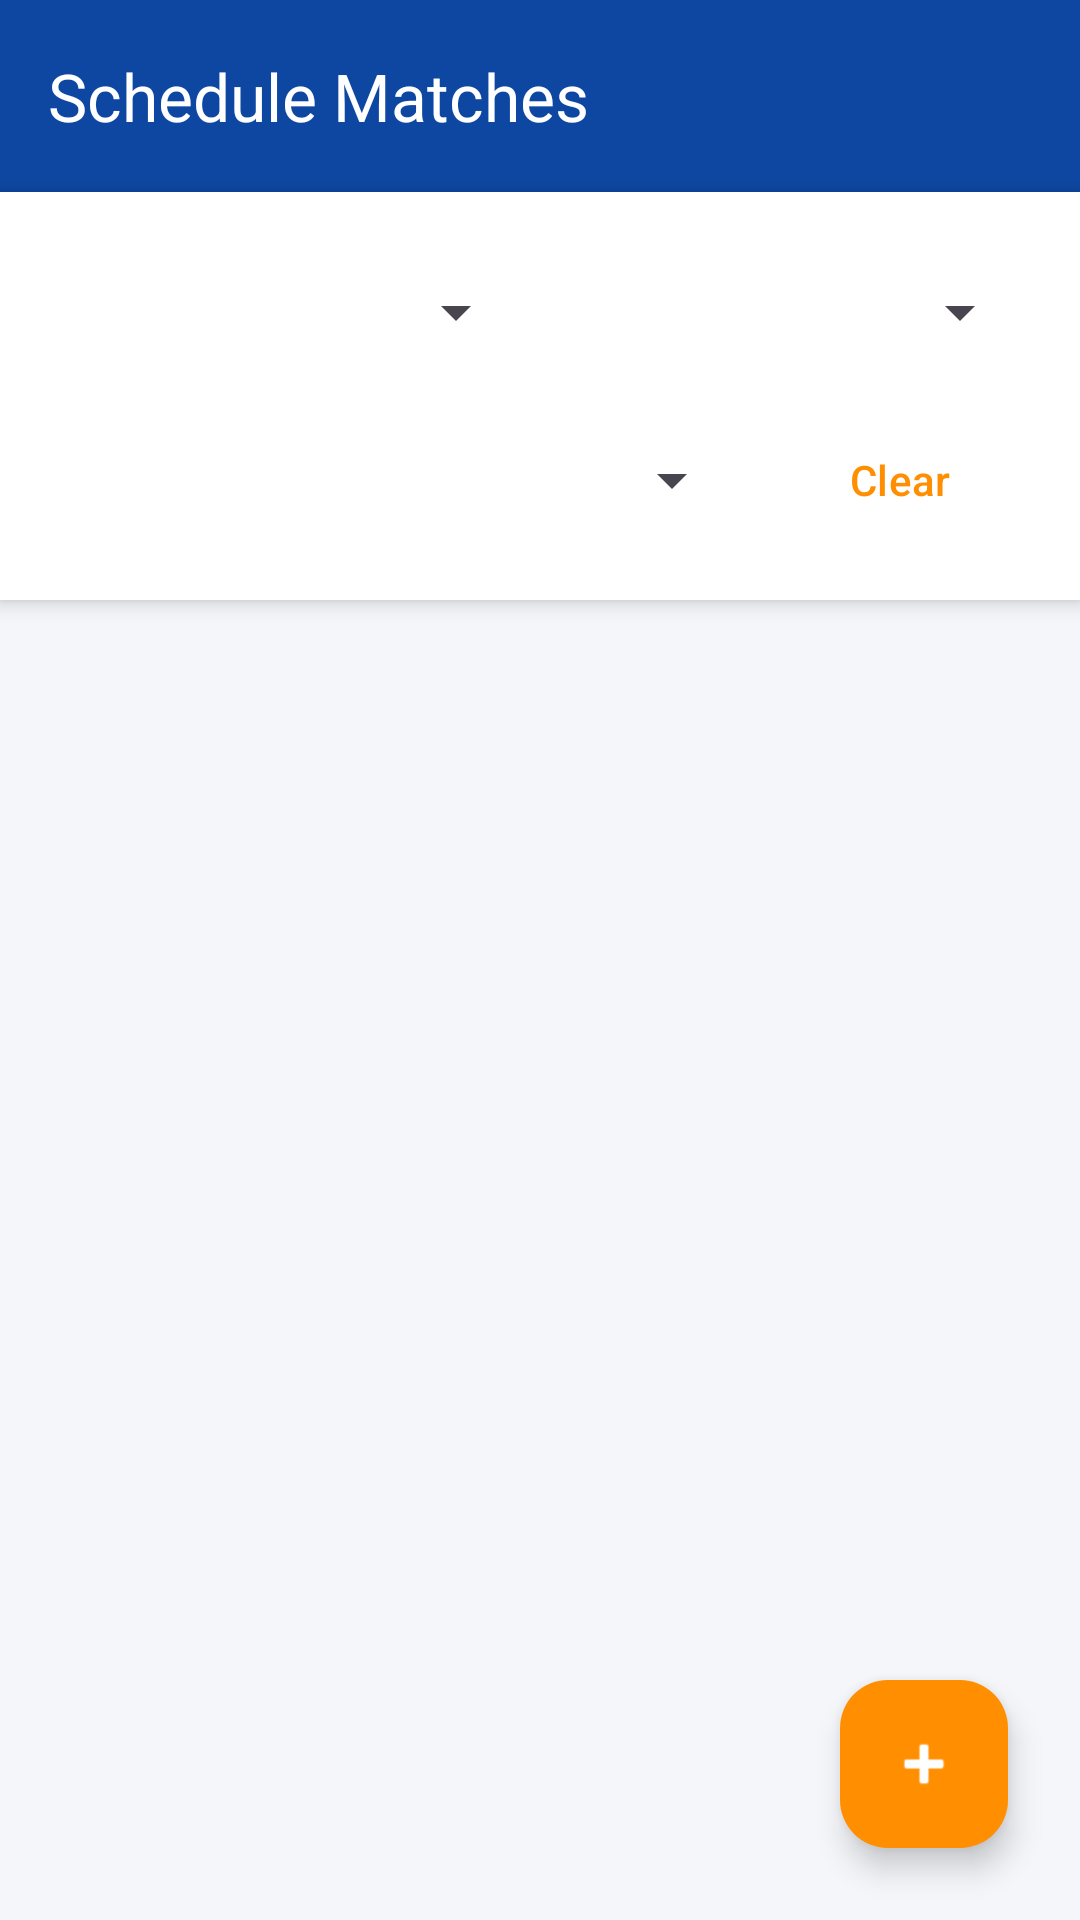

Named icons in this screenshot (1080px×1920px) and their bounding boxes, (x1, y1, x2, y2):
Add Match: (840, 1680, 1008, 1848)
